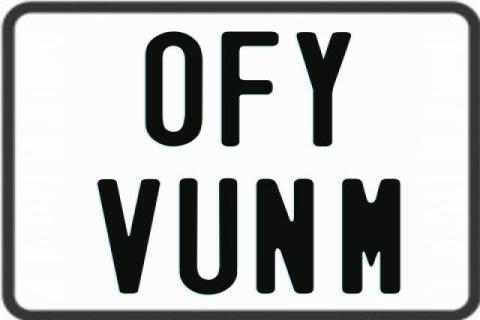0: (146, 30, 206, 146)
F: (218, 30, 276, 146)
M: (342, 177, 401, 293)
N: (253, 179, 315, 293)
U: (178, 178, 242, 298)
V: (95, 179, 163, 295)
Y: (296, 30, 356, 146)
